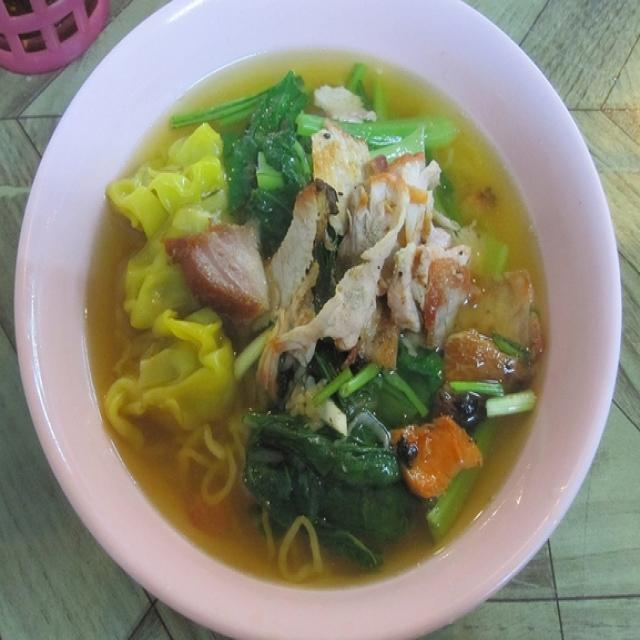面条主食: (36, 21, 604, 610)
